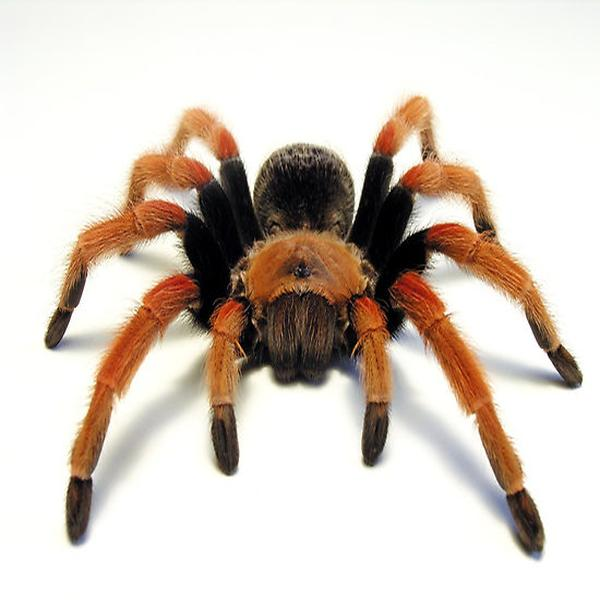Tarantula Spider: (54, 101, 572, 553)
